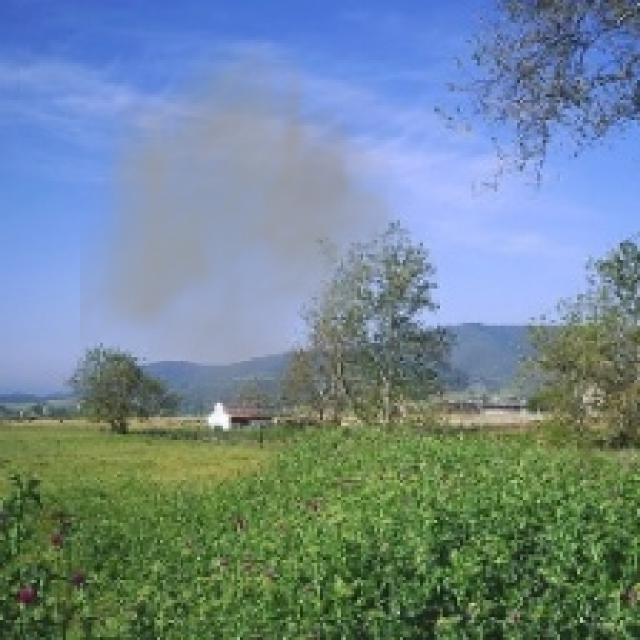Smoke: (80, 28, 434, 420)
